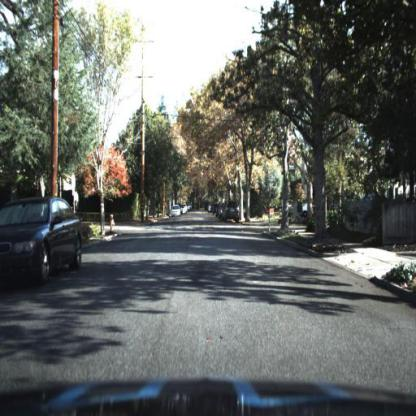car: (1, 195, 87, 285), (222, 201, 242, 224), (170, 204, 182, 220)
